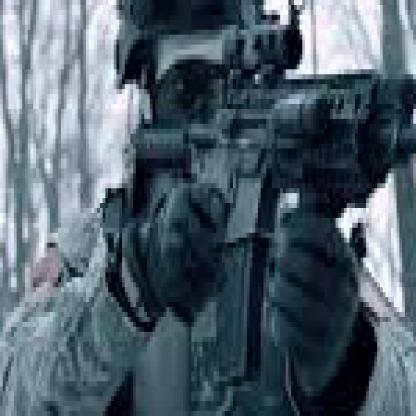gun: (58, 0, 389, 268)
